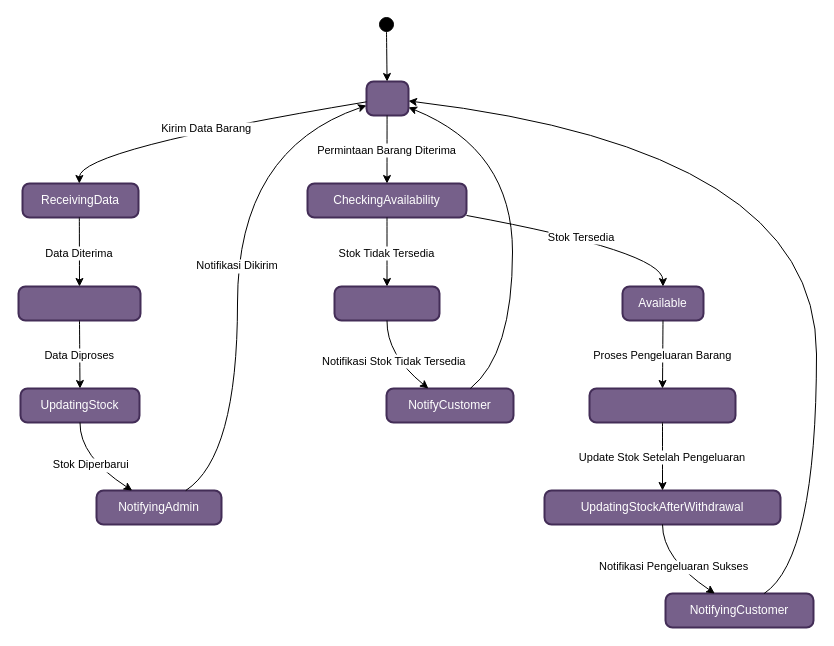
Some shapes in this 834 by 646 pixel diagram are drawn without their labels. The box of each missing label's shape, as (x1, y1, x2, y2) in pixels:
Idle: (365, 80, 409, 116)
NotAvailable: (333, 285, 440, 321)
ProcessingData: (17, 285, 141, 321)
ProcessingRequest: (588, 387, 736, 423)
